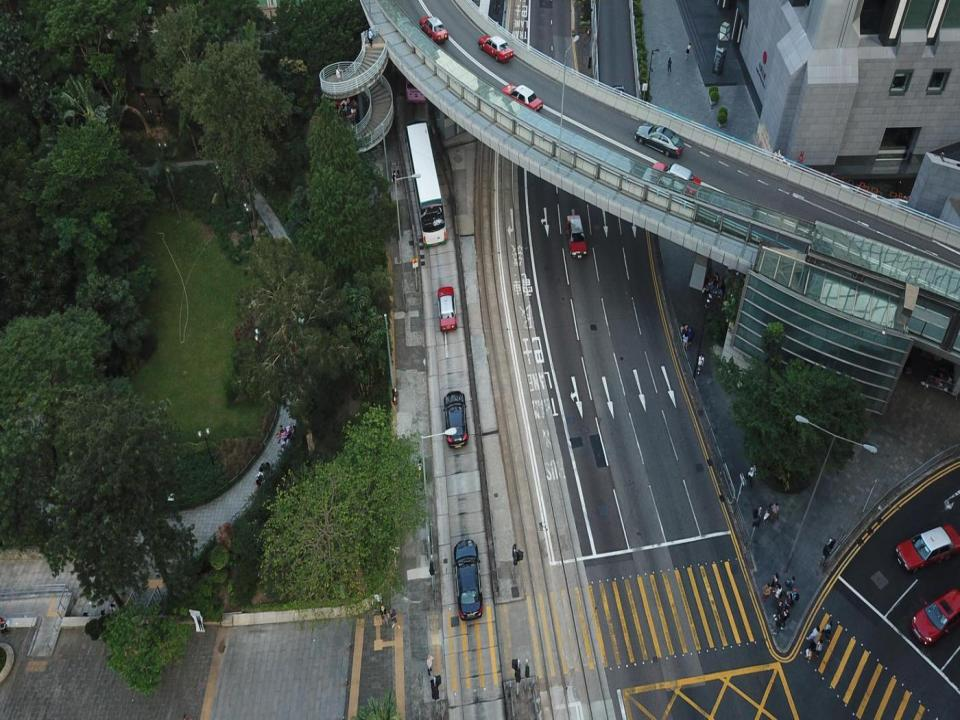bus: (406, 120, 446, 246), (405, 18, 427, 104)
car: (895, 523, 960, 573), (912, 590, 960, 644), (454, 536, 482, 622), (650, 162, 702, 199), (634, 122, 683, 156), (444, 390, 468, 449), (502, 82, 543, 115), (478, 33, 514, 62), (566, 213, 586, 258), (438, 285, 456, 332), (419, 13, 448, 41), (607, 85, 626, 123)
